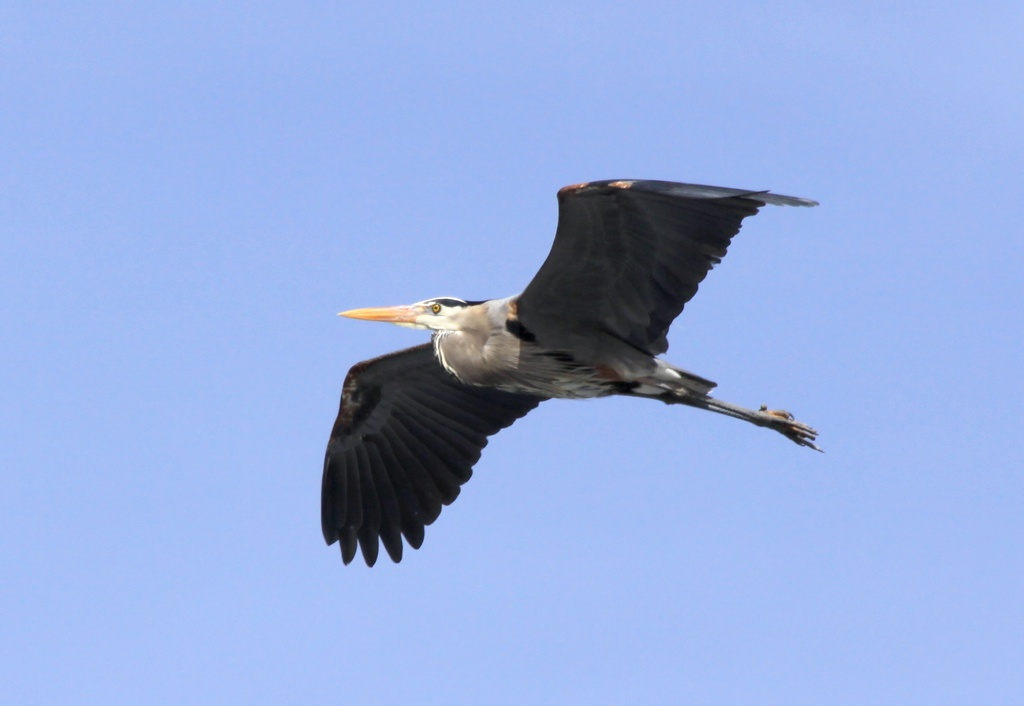bird: (321, 178, 823, 563)
